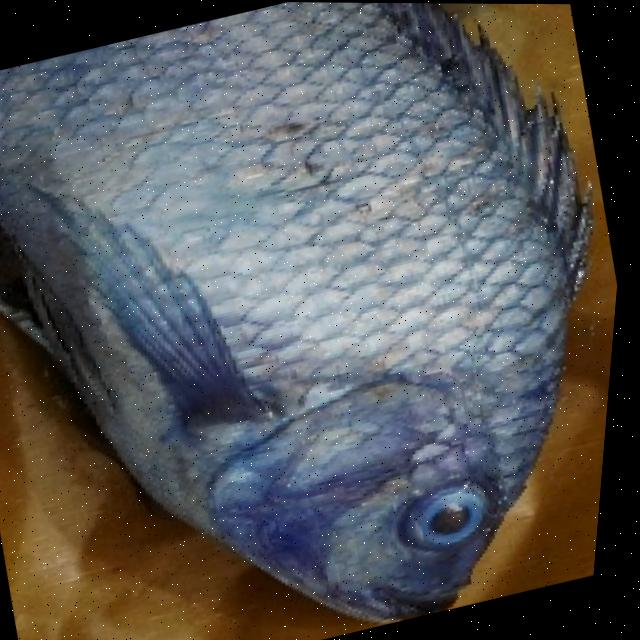Non-Fresh: (384, 458, 519, 571)
